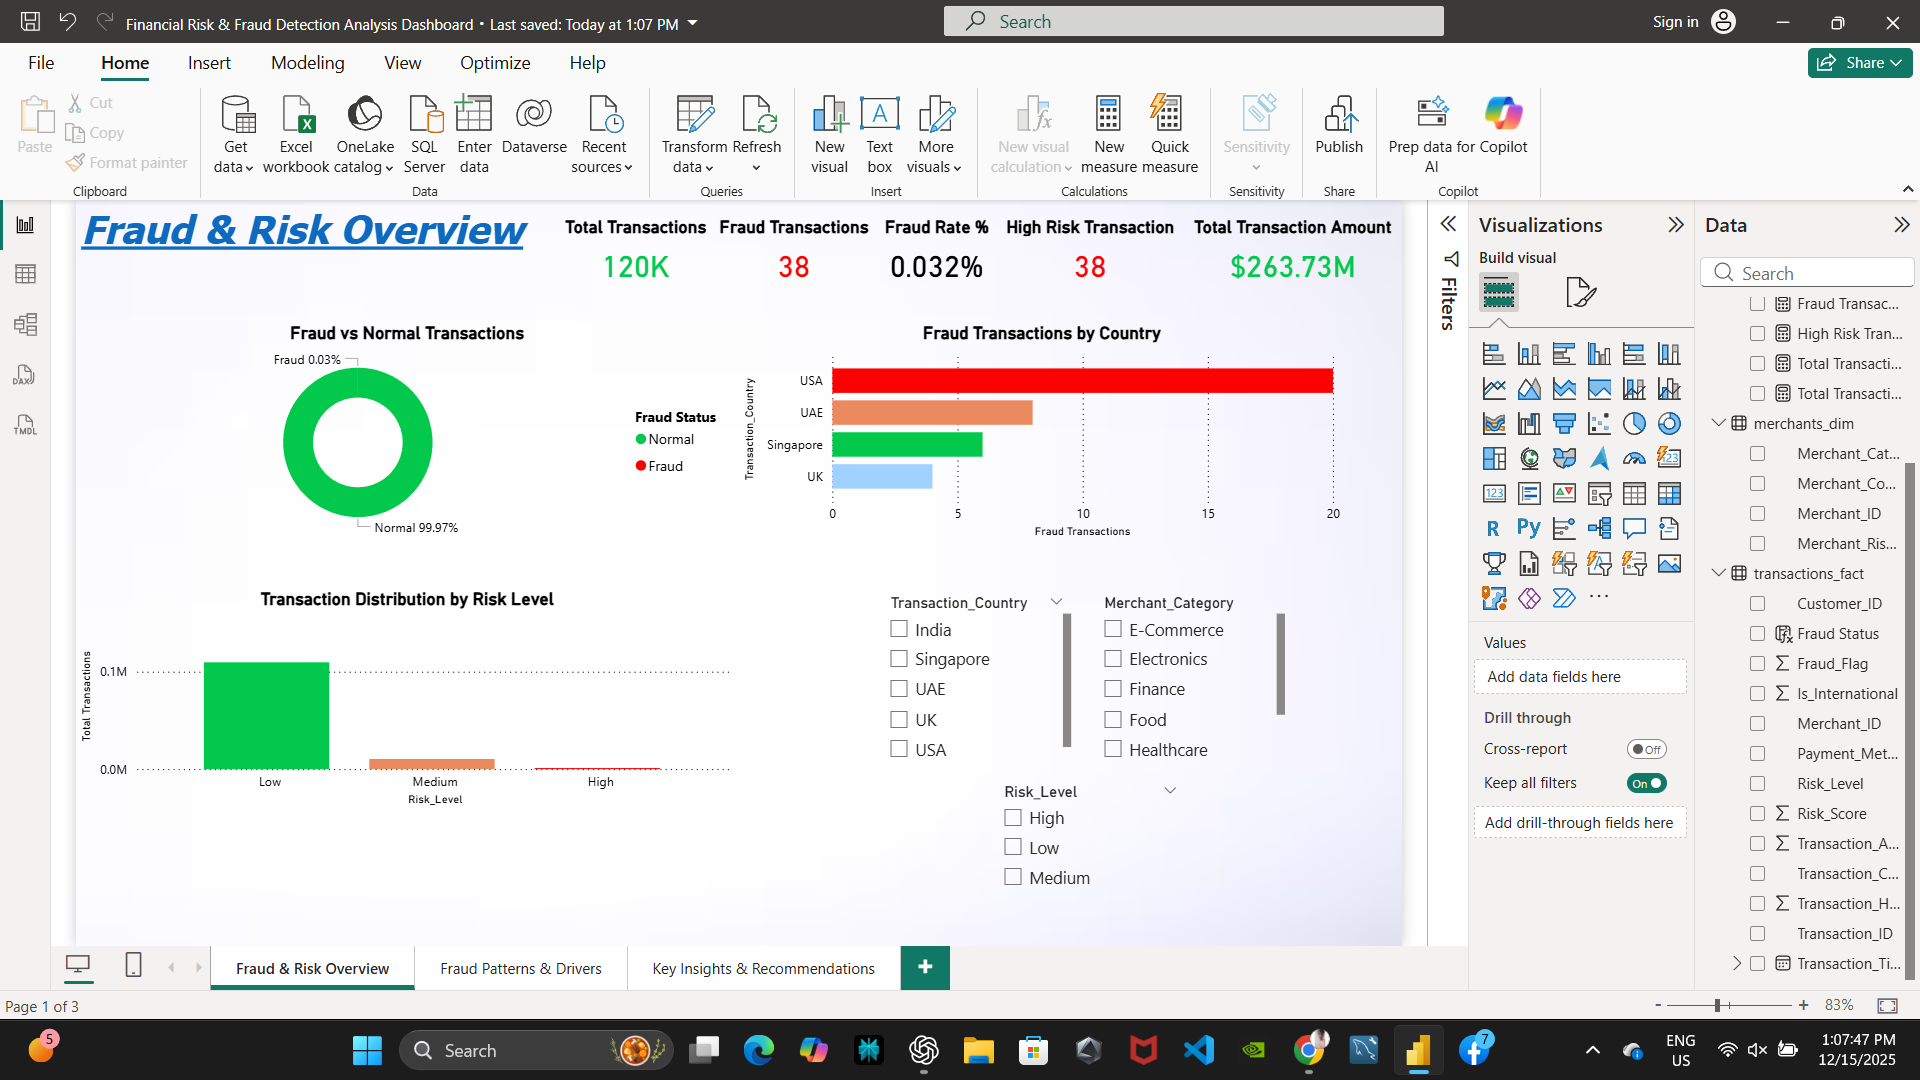

This screenshot's page, from the dashboard's own definition file:
{"tool":"powerbi","page":{"name":"Fraud & Risk Overview","canvas":[1280,720],"ordinal":0},"visuals":[{"type":"textbox","box":[0,0,454.2,74.1],"z":0},{"type":"card","title":"Total Transactions","fields":{"Values":["customers_dim.Total Transactions"]},"box":[466.6,15.1,146.8,74.1],"z":1},{"type":"card","title":"Fraud Transactions","fields":{"Values":["customers_dim.Fraud Transactions"]},"box":[613.4,15.1,160.5,74.1],"z":2},{"type":"card","title":"Fraud Rate %","fields":{"Values":["customers_dim.Fraud Rate %"]},"box":[773.9,15.1,115.3,74.1],"z":3},{"type":"card","title":"High Risk Transaction","fields":{"Values":["customers_dim.High Risk Transactions"]},"box":[889.2,15.1,179.8,74.1],"z":4},{"type":"card","title":"Total Transaction Amount","fields":{"Values":["customers_dim.Total Transaction Amount"]},"box":[1069,15.1,211.3,74.1],"z":5},{"type":"donutChart","title":"Fraud vs Normal Transactions","fields":{"Y":["customers_dim.Total Transactions"],"Category":["transactions_fact.Fraud Status"]},"box":[0,118,639.5,212.7],"z":6},{"type":"clusteredColumnChart","title":"Transaction Distribution by Risk Level","fields":{"Category":["transactions_fact.Risk_Level"],"Y":["customers_dim.Total Transactions"]},"box":[0,374.6,639.5,214.1],"z":7},{"type":"clusteredBarChart","title":"Fraud Transactions by Country","fields":{"Category":["transactions_fact.Transaction_Country"],"Y":["customers_dim.Fraud Transactions"]},"box":[639.5,118,585.9,212.7],"z":8},{"type":"slicer","fields":{"Values":["transactions_fact.Transaction_Country"]},"box":[773.9,374.6,192.1,170.2],"z":9},{"type":"slicer","fields":{"Values":["merchants_dim.Merchant_Category"]},"box":[979.8,374.6,192.1,170.2],"z":10},{"type":"slicer","fields":{"Values":["transactions_fact.Risk_Level"]},"box":[883.7,557.1,192.1,116.6],"z":11}]}

Visuals, with their boxes on the page's 1280x720 design canvas (x1, y1, x2, y2). These are canvas units, not pixel positions in the 1920x1080 screenshot, which may show the page scaled, cropped or inside an application window:
textbox: crop(0, 0, 454, 74)
"Total Transactions" card: crop(467, 15, 613, 89)
"Fraud Transactions" card: crop(613, 15, 774, 89)
"Fraud Rate %" card: crop(774, 15, 889, 89)
"High Risk Transaction" card: crop(889, 15, 1069, 89)
"Total Transaction Amount" card: crop(1069, 15, 1280, 89)
"Fraud vs Normal Transactions" donutChart: crop(0, 118, 640, 331)
"Transaction Distribution by Risk Level" clusteredColumnChart: crop(0, 375, 640, 589)
"Fraud Transactions by Country" clusteredBarChart: crop(640, 118, 1225, 331)
slicer - transactions_fact.Transaction_Country: crop(774, 375, 966, 545)
slicer - merchants_dim.Merchant_Category: crop(980, 375, 1172, 545)
slicer - transactions_fact.Risk_Level: crop(884, 557, 1076, 674)
